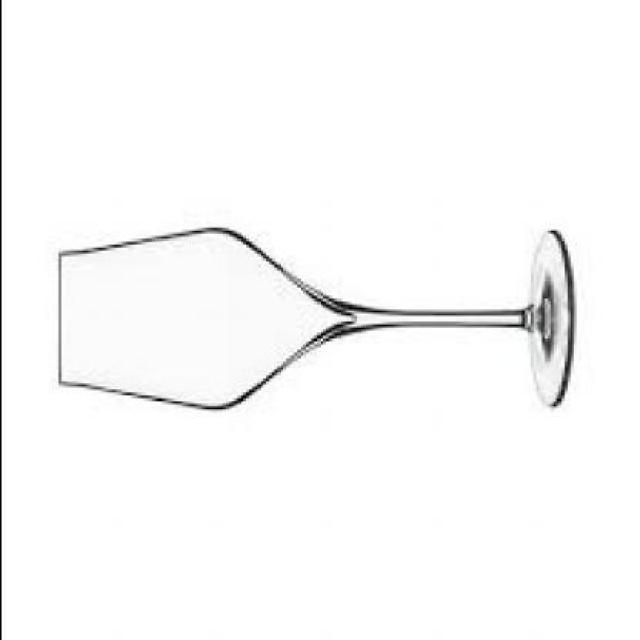glass: (56, 231, 570, 415)
